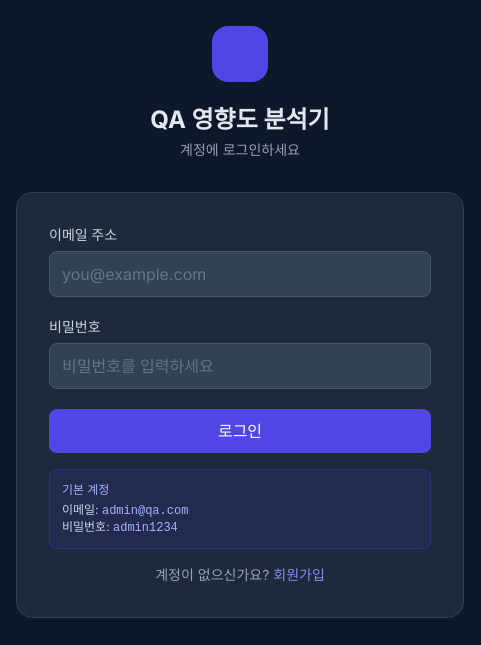
Test case: C10 — LoginPage › submit with invalid email format shows inline error message
Type "not-an-email" into the field with test id "email-input". click: [240, 274]
box: [49,251,431,297]
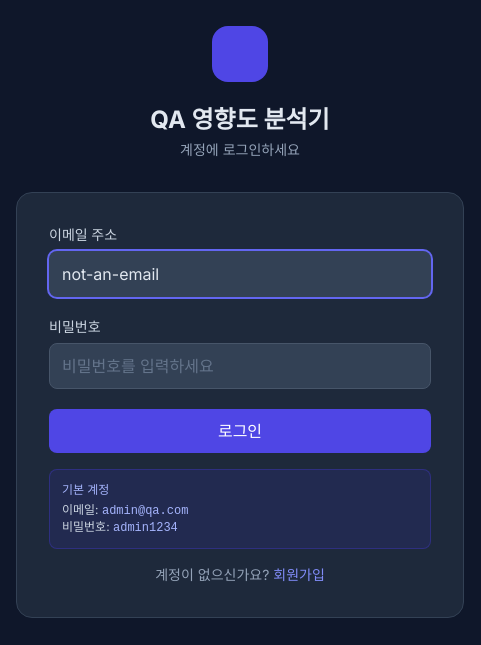
Type "anypassword" into the password field with test id "password-input". click: [240, 366]
box: [49,343,431,389]
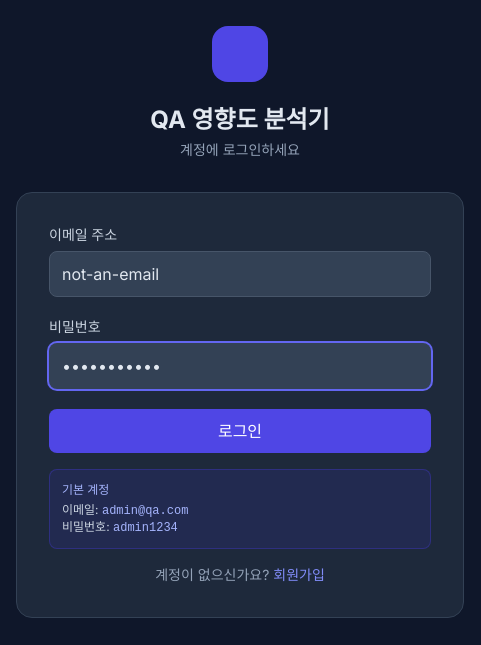
Click the button with test id "login-btn". click: [240, 431]
box: [49,409,431,453]
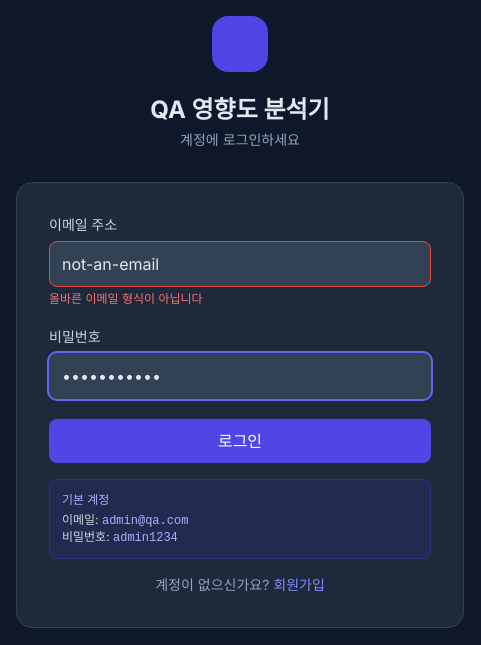
Now the text "올바른 이메일 형식이 아닙니다" is shown, box [49,291,203,306]
